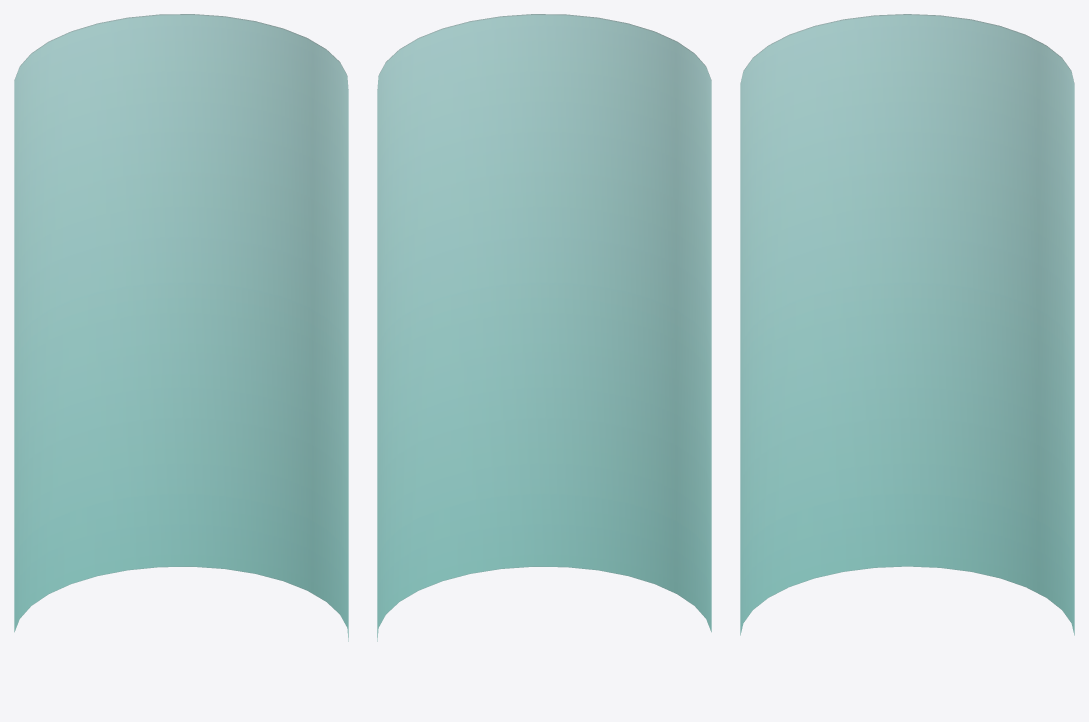
Rendered from kiosk_effect.glb.
3 renders of one model, left to right at view 1: azimuth 30°, elevation 25°; view 2: azimuth 150°, elevation 25°; view 3: azimuth 270°, elevation 25°, orthographic.
Parts seen in each view (by area): view 1: effect; view 2: effect; view 3: effect.
Boxes of the visible parts, x1=… form: effect: x1=14, y1=14, x2=348, y2=641; effect: x1=377, y1=14, x2=711, y2=641; effect: x1=740, y1=14, x2=1074, y2=635.
Size of the model in its own units: 1.15 by 2.09 by 1.15.
1 material, 1 textured.
